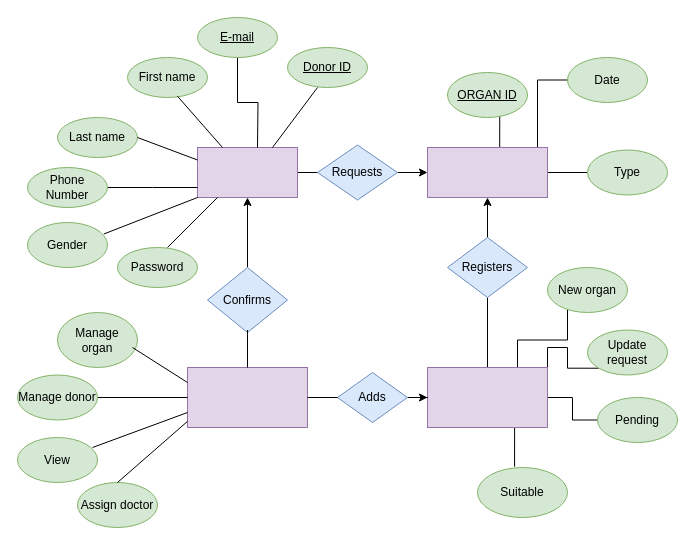
Image size: 695x545. Some labels were removed from this diagram. The box of each missing label's shape, as (x1, y1, x2, y2) in pixels:
ADMIN: (186, 366, 308, 428)
DOCTOR: (426, 366, 548, 428)
ORGAN: (426, 146, 548, 198)
VISITOR: (196, 146, 298, 198)
